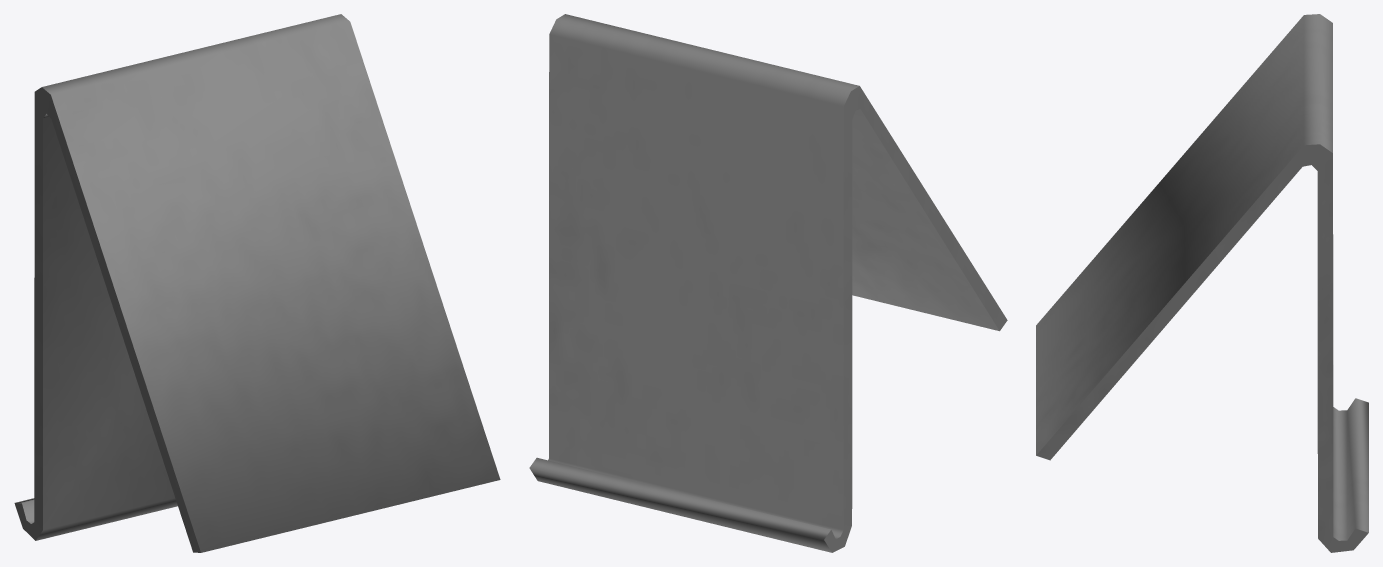
The model's file is magazine_stand.dae.
3 views of the same model, side by side, from view 1: azimuth 30°, elevation 25°; view 2: azimuth 150°, elevation 25°; view 3: azimuth 270°, elevation 25° (orthographic). The views are drawn at different scales.
Parts seen in each view (by area): view 1: Mesh; view 2: Mesh; view 3: Mesh.
Boxes of the visible parts, box(x1,y1,x2,y2) form: Mesh: box(14, 14, 500, 552); Mesh: box(529, 14, 1007, 552); Mesh: box(1036, 14, 1368, 552).
Size of the model in its own units: 0.2099 by 0.3071 by 0.2267.
